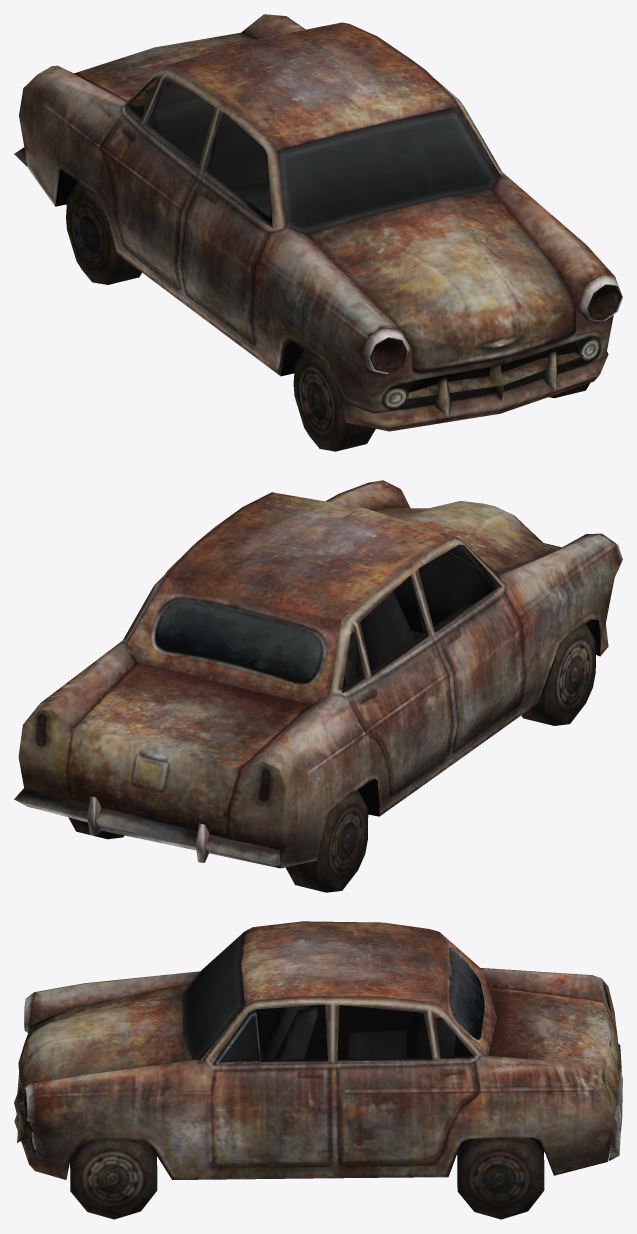
File: JunkCar_A.fbx
3 views of the same model, one above another, from view 1: azimuth 30°, elevation 25°; view 2: azimuth 150°, elevation 25°; view 3: azimuth 270°, elevation 25° (orthographic). The views are drawn at different scales.
Parts seen in each view (by area): view 1: JunkCar_A1, JunkCar_A_Wheel_Front_R, JunkCar_A_Wheel_Rear_R; view 2: JunkCar_A1, JunkCar_A_Wheel_Rear_R, JunkCar_A_Wheel_Front_R; view 3: JunkCar_A1, JunkCar_A_Wheel_Rear_L, JunkCar_A_Wheel_Front_L.
Boxes of the visible parts, left/top/right/bottom form: JunkCar_A1: left=14, top=14, right=622, bottom=431; JunkCar_A_Wheel_Front_R: left=293, top=349, right=375, bottom=451; JunkCar_A_Wheel_Rear_R: left=66, top=182, right=141, bottom=284; JunkCar_A1: left=14, top=480, right=622, bottom=868; JunkCar_A_Wheel_Rear_R: left=285, top=790, right=368, bottom=892; JunkCar_A_Wheel_Front_R: left=521, top=624, right=595, bottom=725; JunkCar_A1: left=14, top=921, right=622, bottom=1179; JunkCar_A_Wheel_Rear_L: left=457, top=1137, right=544, bottom=1219; JunkCar_A_Wheel_Front_L: left=70, top=1140, right=157, bottom=1219.
Size of the model in its own units: 2.76 by 2.39 by 6.18.
